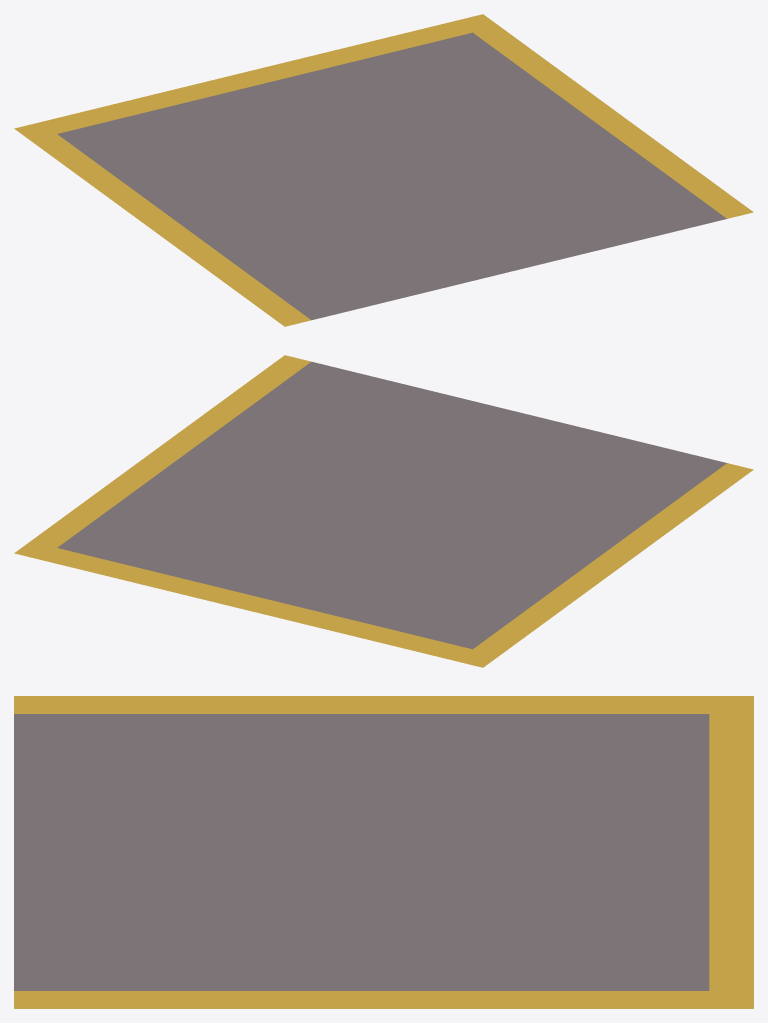
Rendered from parkingFront.fbx.
3 renders of one model, top to bottom at view 1: azimuth 30°, elevation 25°; view 2: azimuth 150°, elevation 25°; view 3: azimuth 270°, elevation 25°, orthographic. The views are drawn at different scales.
Visible parts, largest first — view 1: ParkingPlaceFront; view 2: ParkingPlaceFront; view 3: ParkingPlaceFront.
Part boxes in pixels (<box>): ParkingPlaceFront: <box>14,14,753,326</box>; ParkingPlaceFront: <box>14,355,753,667</box>; ParkingPlaceFront: <box>14,696,753,1008</box>.
Bounding box in the file's own units: 150 × 3.33e-14 × 150.
